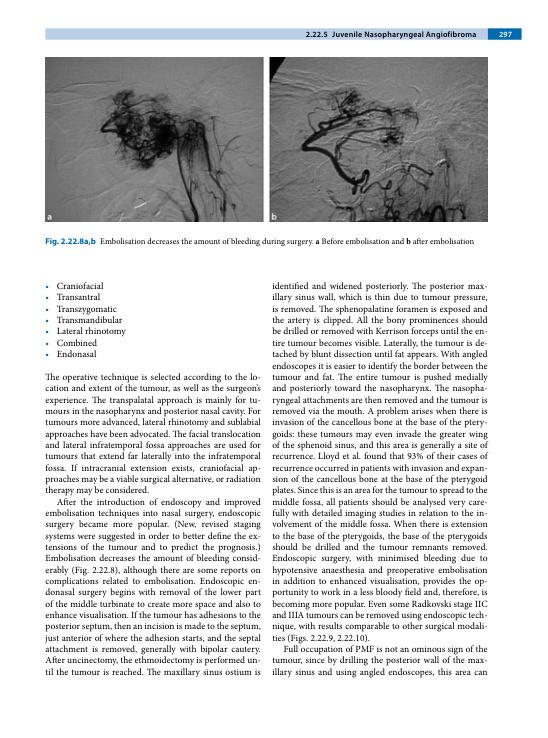caption: (45, 237, 475, 247), (271, 212, 277, 221), (47, 214, 53, 221)
header: (331, 30, 477, 40)
image: (269, 56, 489, 222), (45, 57, 265, 222)
list: (44, 280, 128, 360)
text: (271, 281, 489, 679), (44, 371, 263, 679)
